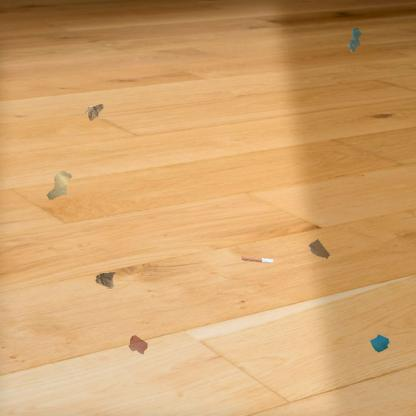dirty: (44, 169, 74, 200), (306, 236, 332, 262), (367, 332, 392, 355), (240, 253, 274, 266), (94, 270, 116, 288), (84, 103, 104, 122)
liquid: (127, 334, 149, 356), (347, 27, 363, 52)
